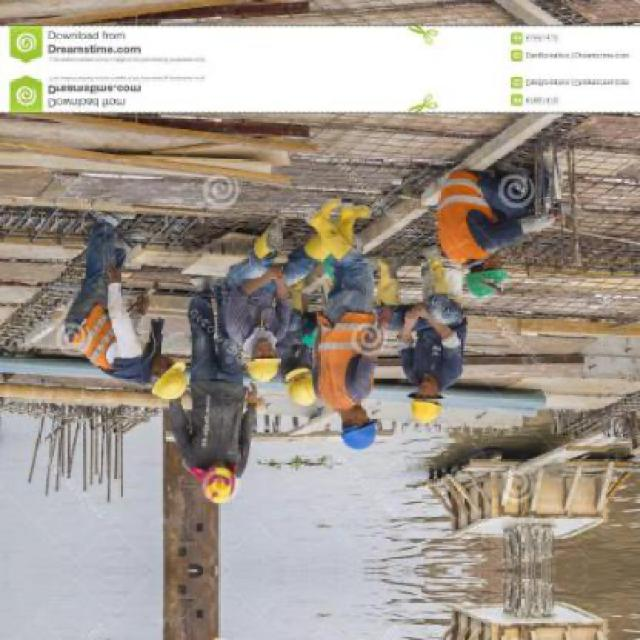con casco: (245, 334, 328, 418), (397, 361, 469, 428), (145, 330, 214, 389), (206, 435, 262, 507), (329, 392, 382, 461), (454, 244, 508, 301)
